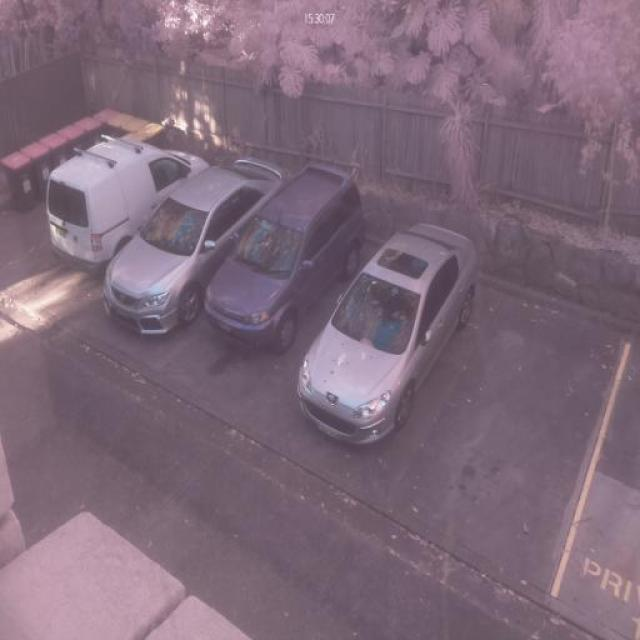Legalparking: (0, 38, 498, 517)
